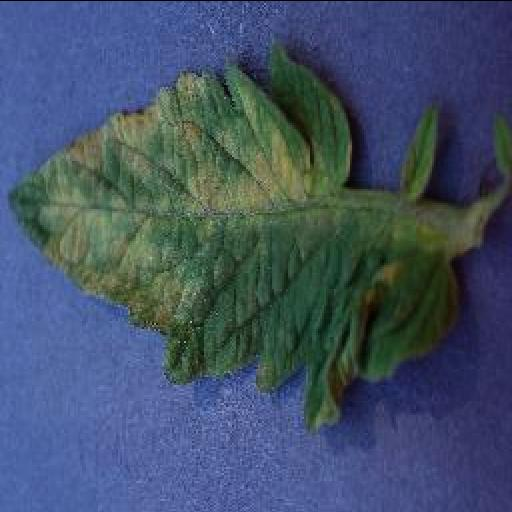disease_tomato: (5, 42, 463, 432)
